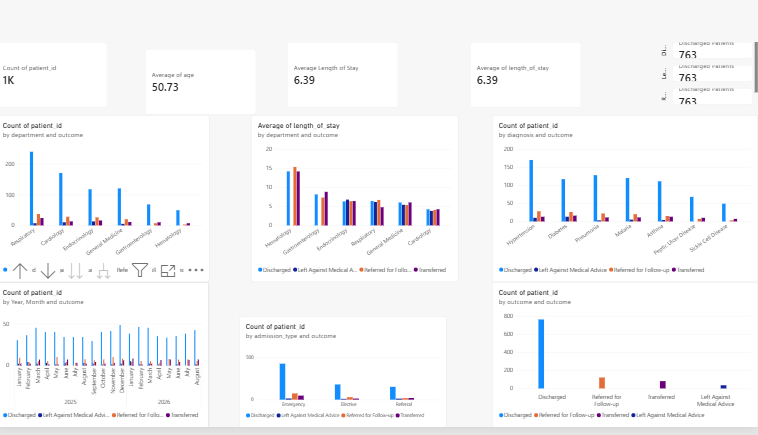

The page's visual inventory and layout, read from the dashboard file:
{"tool":"powerbi","page":{"name":"Page 1","canvas":[1920,1080],"ordinal":0},"visuals":[{"type":"cardVisual","fields":{"Data":["CountNonNull(hospital_patient_data.patient_id)"]},"box":[0,108,280.1,166.5],"z":0},{"type":"cardVisual","fields":{"Data":["Avg(hospital_patient_data.age)"]},"box":[375.8,125.3,280.1,166.5],"z":1000},{"type":"cardVisual","fields":{"Data":["Avg(hospital_patient_data.length_of_stay)"]},"box":[1194.5,108,280.1,166.5],"z":2000},{"type":"cardVisual","fields":{"Data":["hospital_patient_data.Average Length of Stay","hospital_patient_data.Average Length of Stay"]},"box":[732.2,108,280.1,166.5],"z":3000},{"type":"cardVisual","fields":{"Data":["hospital_patient_data.Discharged Patients"],"Rows":["hospital_patient_data.outcome","hospital_patient_data.outcome"]},"box":[1669.7,108,249.8,166.5],"z":4000},{"type":"clusteredColumnChart","fields":{"Category":["hospital_patient_data.department"],"Series":["hospital_patient_data.outcome"],"Y":["CountNonNull(hospital_patient_data.patient_id)"]},"box":[0,291.6,537.8,421.2],"z":5000},{"type":"clusteredColumnChart","fields":{"Category":["hospital_patient_data.diagnosis"],"Series":["hospital_patient_data.outcome"],"Y":["CountNonNull(hospital_patient_data.patient_id)"]},"box":[1250.6,291.6,669.6,421.2],"z":6000},{"type":"clusteredColumnChart","fields":{"Category":["hospital_patient_data.admission_date.Variation.Date Hierarchy.Year","hospital_patient_data.admission_date.Variation.Date Hierarchy.Month"],"Series":["hospital_patient_data.outcome"],"Y":["CountNonNull(hospital_patient_data.patient_id)"]},"box":[0,712.8,537.8,367.2],"z":7000},{"type":"clusteredColumnChart","fields":{"Category":["hospital_patient_data.outcome"],"Series":["hospital_patient_data.outcome"],"Y":["CountNonNull(hospital_patient_data.patient_id)"]},"box":[1250.6,712.8,669.6,367.2],"z":8000},{"type":"clusteredColumnChart","fields":{"Category":["hospital_patient_data.admission_type"],"Series":["hospital_patient_data.outcome"],"Y":["CountNonNull(hospital_patient_data.patient_id)"]},"box":[611.3,799.2,522.7,280.8],"z":9000},{"type":"clusteredColumnChart","fields":{"Category":["hospital_patient_data.department"],"Series":["hospital_patient_data.outcome"],"Y":["Avg(hospital_patient_data.length_of_stay)"]},"box":[641.5,291.6,522.7,421.2],"z":10000},{"type":"textbox","box":[1012,108,153,167],"z":11000},{"type":"textbox","box":[1474,108,446,167],"z":12000}]}

Visuals, with their boxes in screenshot pixels (x1, y1, x2, y2), scaled from the page's 1920x1080 canvas onto the 758x435 screenshot:
cardVisual - CountNonNull(hospital_patient_data.patient_id): pyautogui.locateOnScreen(0, 44, 111, 111)
cardVisual - Avg(hospital_patient_data.age): pyautogui.locateOnScreen(148, 50, 259, 118)
cardVisual - Avg(hospital_patient_data.length_of_stay): pyautogui.locateOnScreen(472, 44, 582, 111)
cardVisual - hospital_patient_data.Average Length of Stay x hospital_patient_data.Average Length of Stay: pyautogui.locateOnScreen(289, 44, 400, 111)
cardVisual - hospital_patient_data.Discharged Patients x hospital_patient_data.outcome: pyautogui.locateOnScreen(659, 44, 757, 111)
clusteredColumnChart - hospital_patient_data.department x hospital_patient_data.outcome: pyautogui.locateOnScreen(0, 117, 212, 287)
clusteredColumnChart - hospital_patient_data.diagnosis x hospital_patient_data.outcome: pyautogui.locateOnScreen(494, 117, 757, 287)
clusteredColumnChart - hospital_patient_data.admission_date.Variation.Date Hierarchy.Year x hospital_patient_data.admission_date.Variation.Date Hierarchy.Month: pyautogui.locateOnScreen(0, 287, 212, 434)
clusteredColumnChart - hospital_patient_data.outcome x hospital_patient_data.outcome: pyautogui.locateOnScreen(494, 287, 757, 434)
clusteredColumnChart - hospital_patient_data.admission_type x hospital_patient_data.outcome: pyautogui.locateOnScreen(241, 322, 448, 434)
clusteredColumnChart - hospital_patient_data.department x hospital_patient_data.outcome: pyautogui.locateOnScreen(253, 117, 460, 287)
textbox: pyautogui.locateOnScreen(400, 44, 460, 111)
textbox: pyautogui.locateOnScreen(582, 44, 757, 111)
